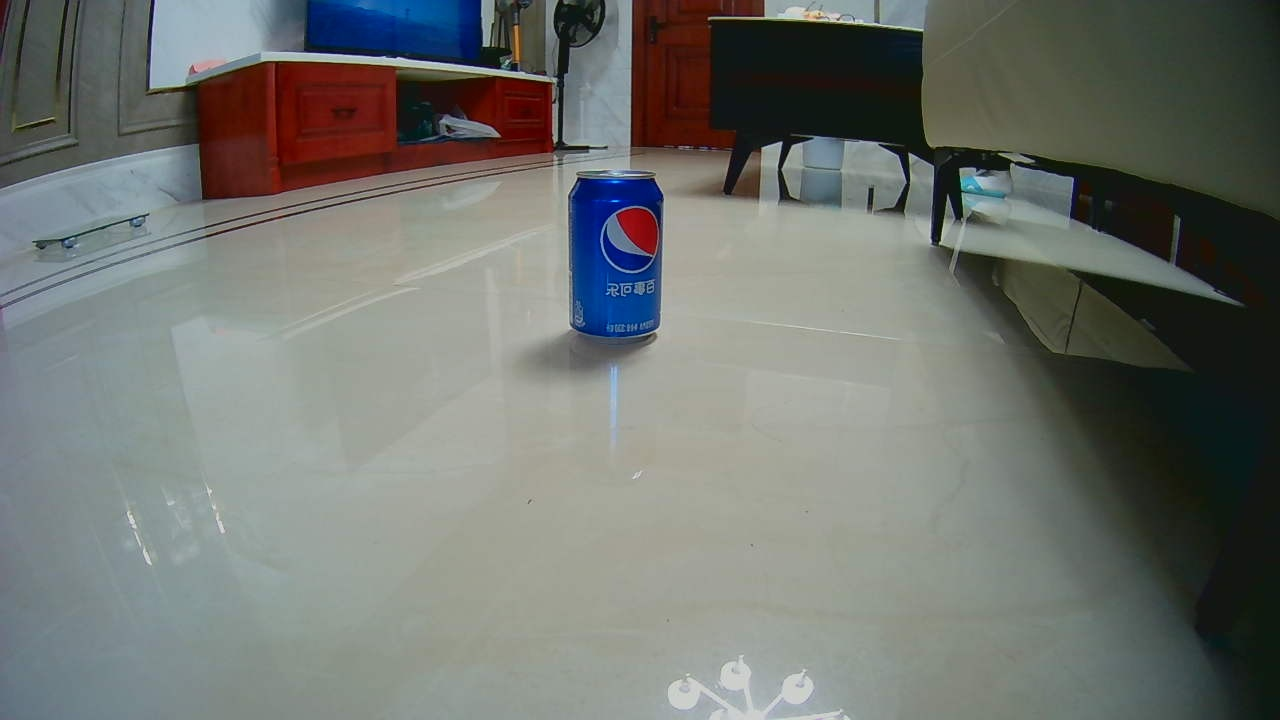pessi: (569, 170, 664, 341)
